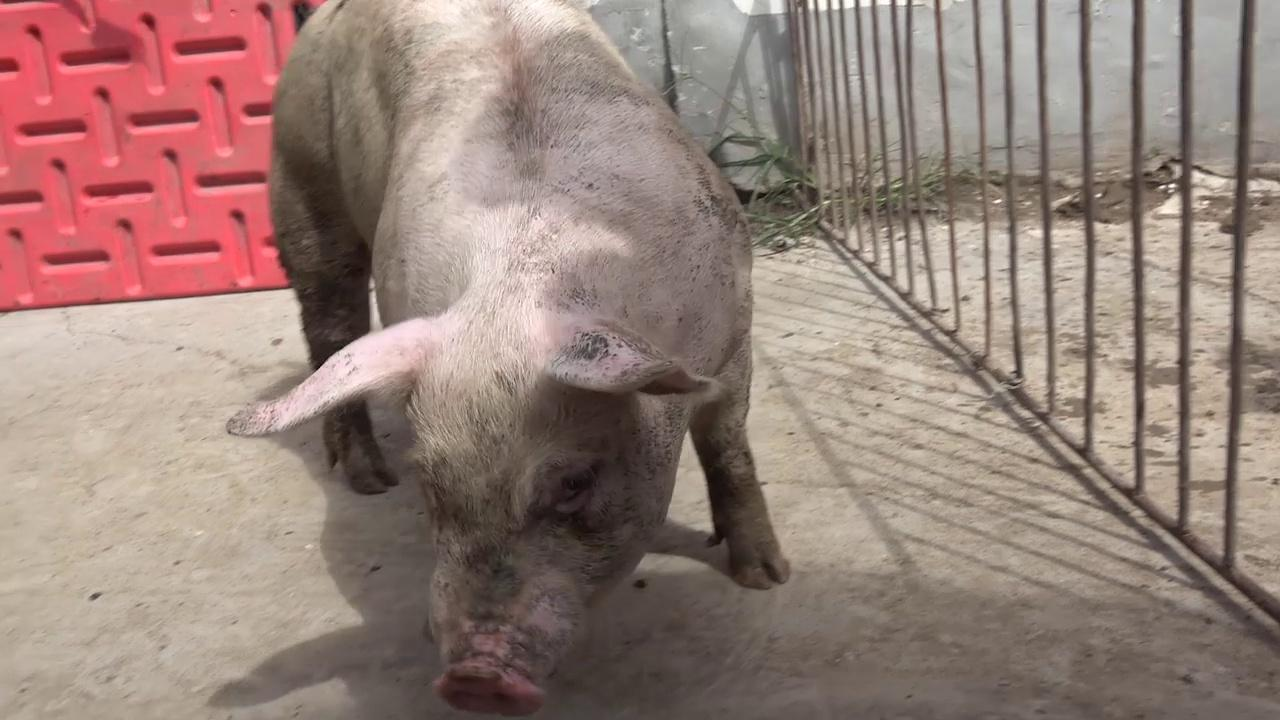Face: (219, 303, 740, 720)
